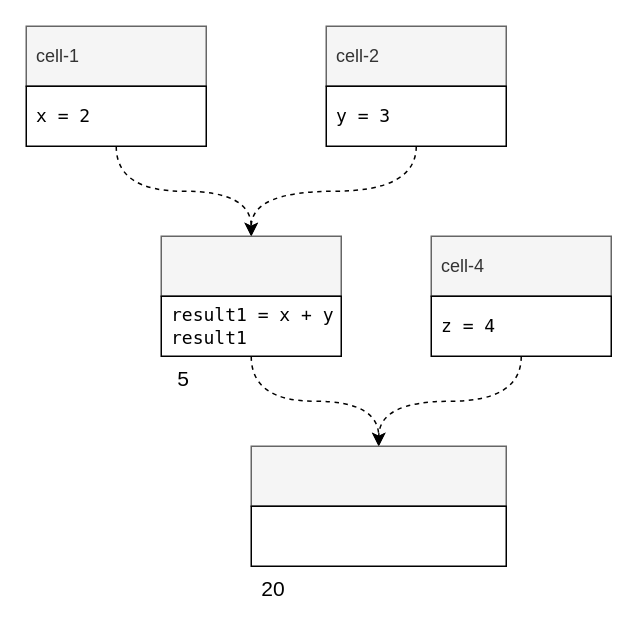
Image size: 638x638. Some labels were removed from this diagram. The shapes that lost their labels are listed below. From the top down, each one's box as (x1, y1, x2, y2) in pixels, then its label:
(160, 235, 341, 296): cell-3
(250, 445, 506, 506): cell-5
(250, 505, 506, 566): result2 = result1 * z result2
